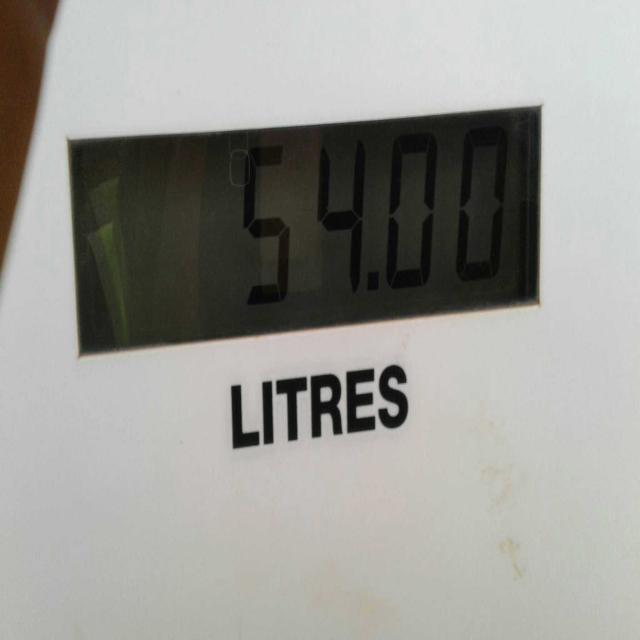.: (362, 264, 381, 304)
0: (450, 124, 518, 289), (384, 132, 444, 306)
4: (310, 132, 372, 300)
5: (228, 134, 301, 315)
